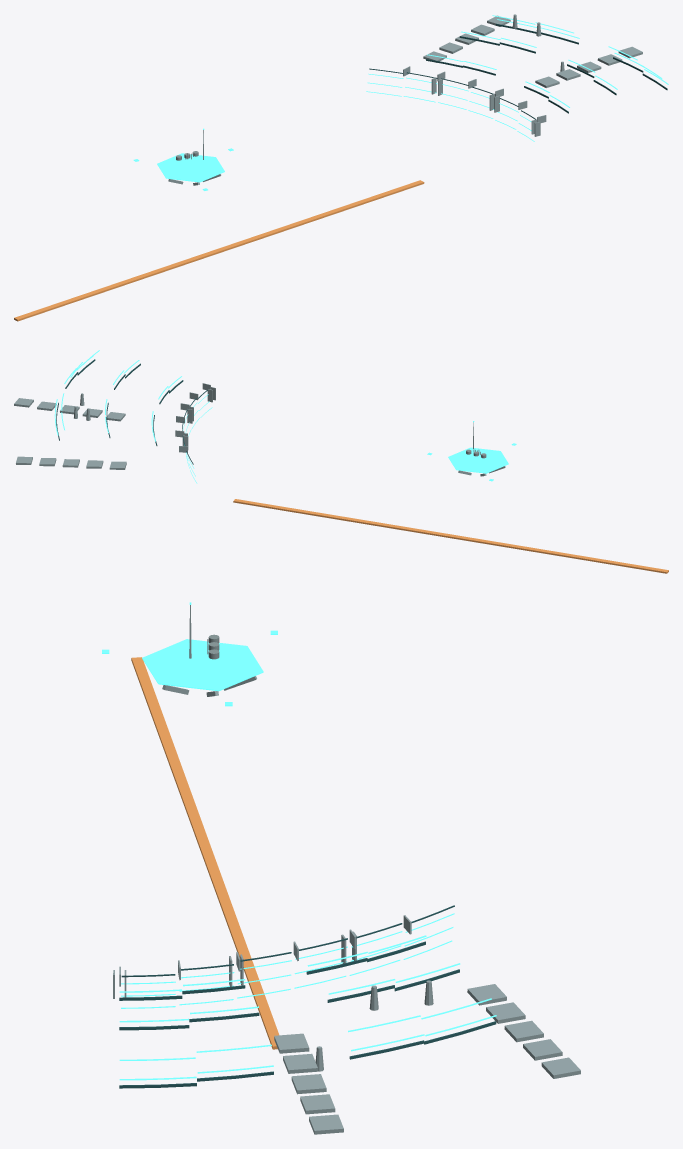
The model's file is Weather_Lung_Sector_00_Dressing.glb.
The picture shows the model from 3 angles, top to bottom: view 1: azimuth 30°, elevation 25°; view 2: azimuth 150°, elevation 25°; view 3: azimuth 270°, elevation 25°; orthographic projection. The views are drawn at different scales.
Visible parts, largest first — view 1: Weather_Lung_Sector_00_Dressing; view 2: Weather_Lung_Sector_00_Dressing; view 3: Weather_Lung_Sector_00_Dressing.
Boxes of the visible parts, box(x1,y1,x2,y2) form: Weather_Lung_Sector_00_Dressing: box(14, 14, 668, 321); Weather_Lung_Sector_00_Dressing: box(14, 350, 668, 573); Weather_Lung_Sector_00_Dressing: box(102, 602, 580, 1134).
Size of the model in its own units: 11676 by 2163 by 4006.
